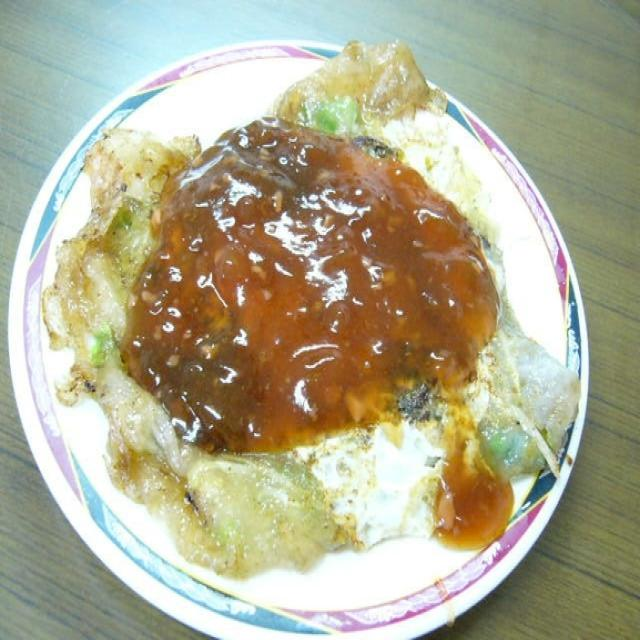熟制海鲜: (11, 28, 594, 624)
